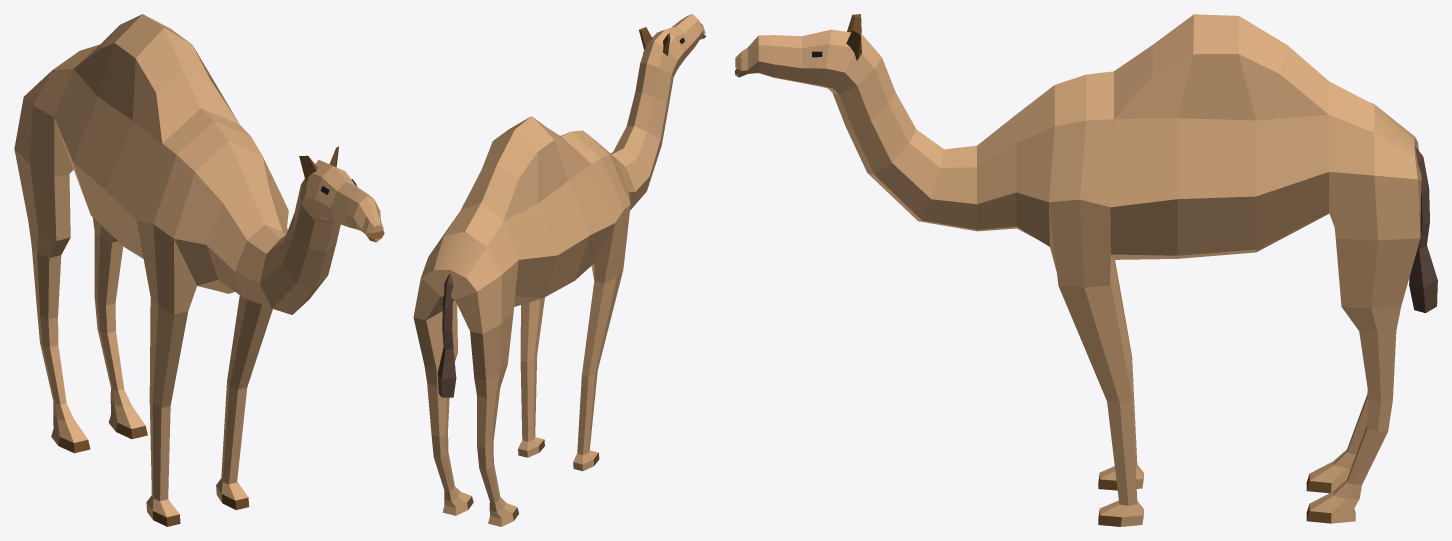
File: camel.glb
3 renders of one model, left to right at view 1: azimuth 30°, elevation 25°; view 2: azimuth 150°, elevation 25°; view 3: azimuth 270°, elevation 25°, orthographic. The views are drawn at different scales.
Parts seen in each view (by area): view 1: Geo_Camel; view 2: Geo_Camel; view 3: Geo_Camel.
Boxes of the visible parts, <box> form: Geo_Camel: <box>14,14,384,526</box>; Geo_Camel: <box>413,14,705,526</box>; Geo_Camel: <box>735,14,1437,526</box>.
Bounding box in the file's own units: 0.3037 × 1 × 1.3.
Materials: 1 (1 with a texture image).
